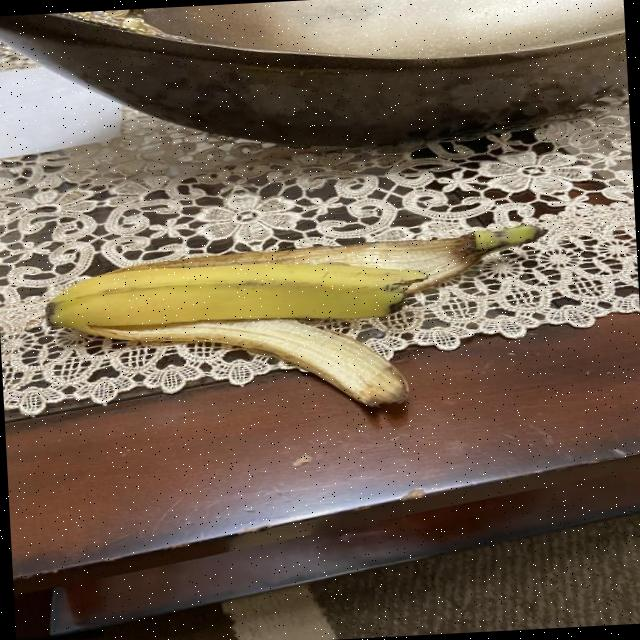banana-peel: (39, 220, 550, 426), (41, 222, 546, 336), (57, 306, 411, 424)
